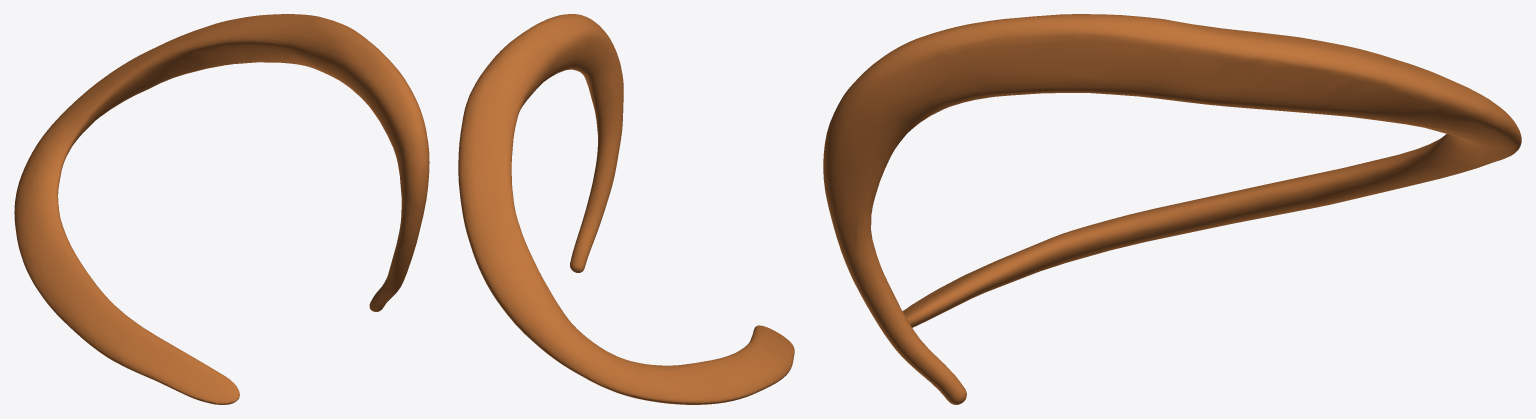
Rendered from Fornix_right.glb.
3 renders of one model, left to right at view 1: azimuth 30°, elevation 25°; view 2: azimuth 150°, elevation 25°; view 3: azimuth 270°, elevation 25°, orthographic. The views are drawn at different scales.
Visible parts, largest first — view 1: Fornix.r_grp1.099; view 2: Fornix.r_grp1.099; view 3: Fornix.r_grp1.099.
Boxes of the visible parts, bbox=[...] form: Fornix.r_grp1.099: bbox=[14, 14, 429, 404]; Fornix.r_grp1.099: bbox=[458, 14, 794, 404]; Fornix.r_grp1.099: bbox=[823, 14, 1521, 404].
Size of the model in its own units: 0.0305 by 0.0312 by 0.0432.
